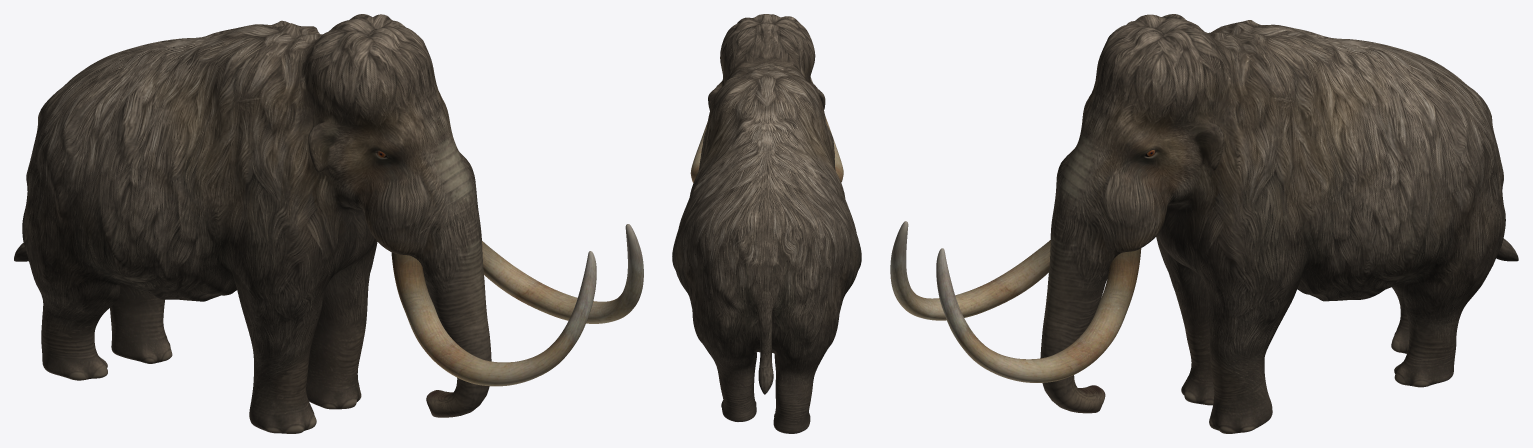
Rendered from woolly_mammoth.glb.
3 renders of one model, left to right at view 1: azimuth 30°, elevation 25°; view 2: azimuth 150°, elevation 25°; view 3: azimuth 270°, elevation 25°, orthographic. The views are drawn at different scales.
Visible parts, largest first — view 1: node_id35_1_4; view 2: node_id35_1_4; view 3: node_id35_1_4.
Boxes of the visible parts, x1,y1,x2,y2 form: node_id35_1_4: (14, 14, 643, 433); node_id35_1_4: (672, 14, 861, 433); node_id35_1_4: (890, 14, 1518, 433).
Bounding box in the file's own units: 0.5067 × 0.512 × 0.7254.
Materials: 1 (1 with a texture image).
